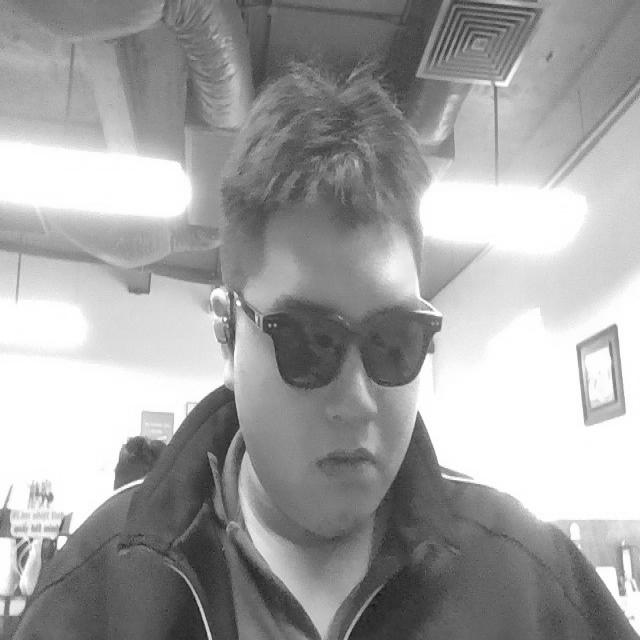fake: (231, 284, 440, 388)
real: (220, 84, 437, 539)
